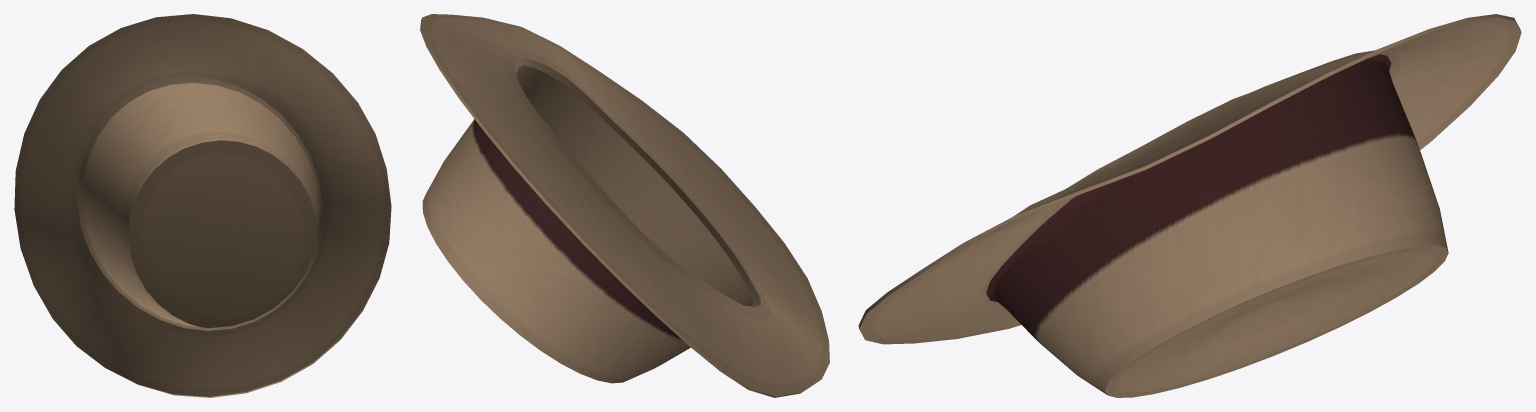
File: hat.obj
The picture shows the model from 3 angles, left to right: view 1: azimuth 30°, elevation 25°; view 2: azimuth 150°, elevation 25°; view 3: azimuth 270°, elevation 25°; orthographic projection. The views are drawn at different scales.
Parts seen in each view (by area): view 1: dynamic; view 2: dynamic; view 3: dynamic.
Boxes of the visible parts, left/top/right/bottom form: dynamic: left=14, top=14, right=391, bottom=397; dynamic: left=420, top=14, right=829, bottom=397; dynamic: left=858, top=14, right=1521, bottom=397.
Size of the model in its own units: 0.2623 by 0.2361 by 0.3392.
Materials: 1 (1 with a texture image).
